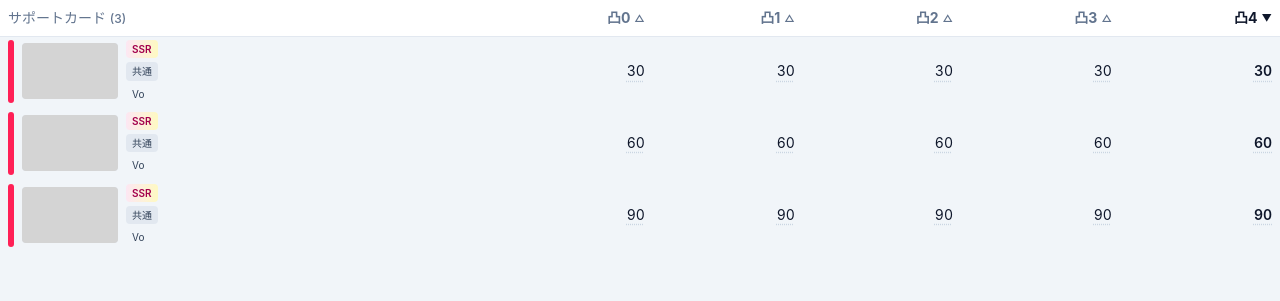
Test: which breakdown shows › the breakdown is titled with its card's name
The width and height of the screenshot is (1280, 301).
Step 1. Click the 1st button "60" → (636,143), box top-left (627, 133), bottom-right (645, 153)
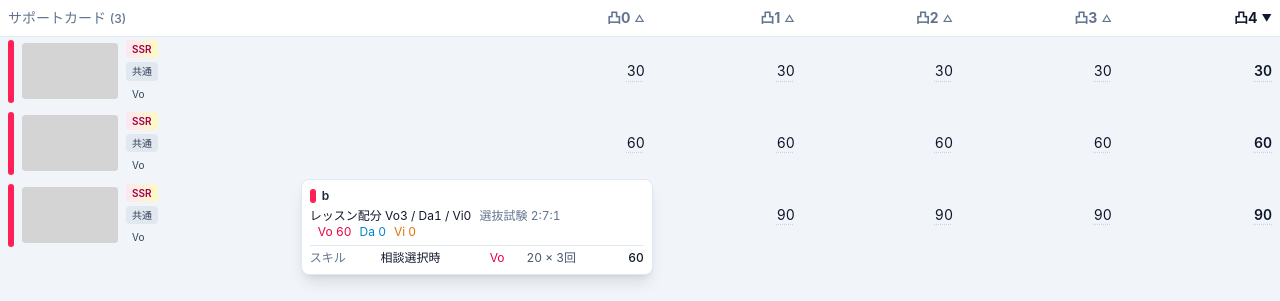
Result: the element showing "b" is shown at top-left (310, 188), bottom-right (329, 203)
